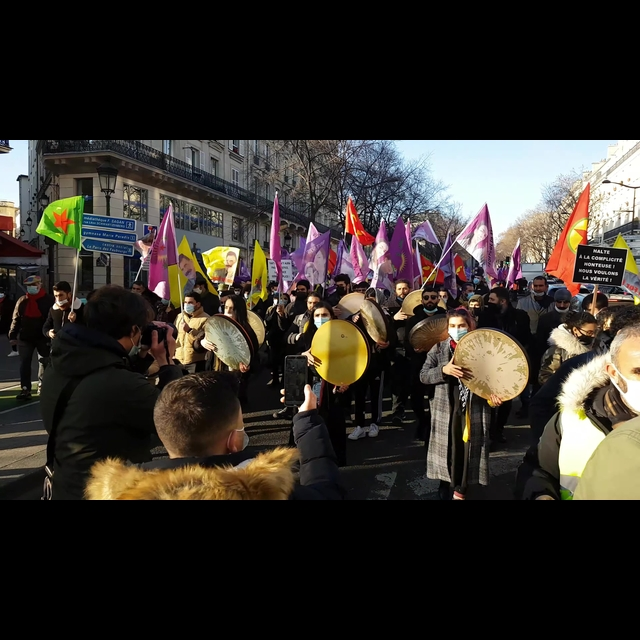PKK: (546, 180, 593, 299)
YPJ: (30, 186, 89, 256)
